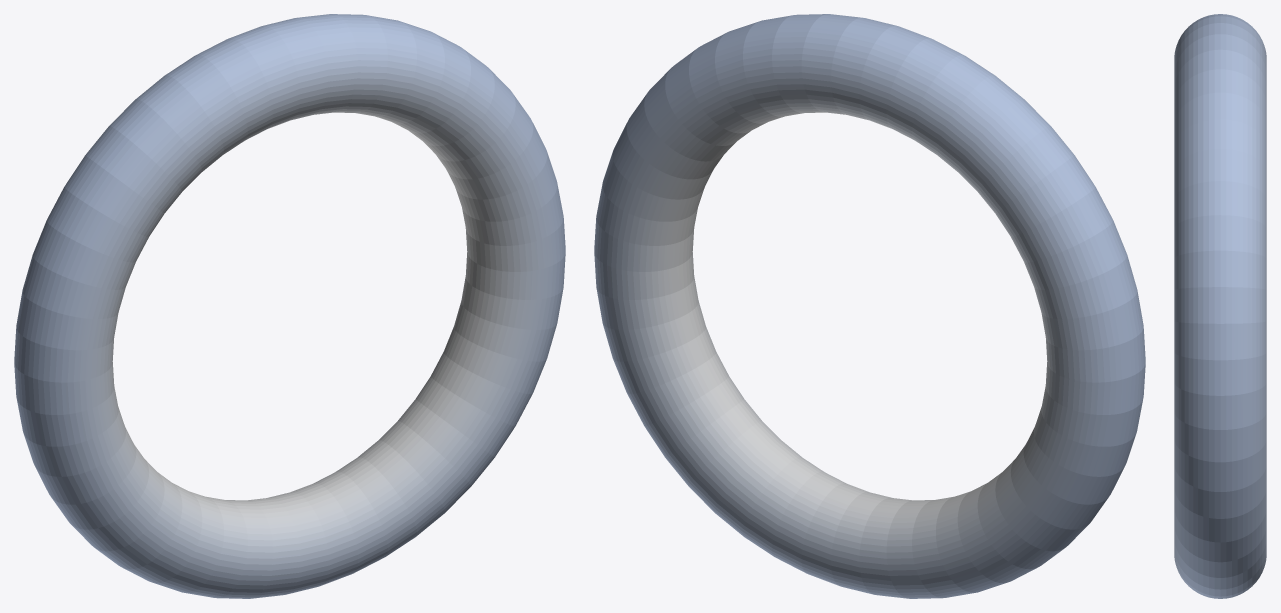
3 renders of one model, left to right at view 1: azimuth 30°, elevation 25°; view 2: azimuth 150°, elevation 25°; view 3: azimuth 270°, elevation 25°, orthographic. The views are drawn at different scales.
Visible parts, largest first — view 1: world; view 2: world; view 3: world.
Part boxes in pixels (box(x1,y1,x2,y2)): world: box(14, 14, 565, 598); world: box(594, 14, 1145, 598); world: box(1174, 14, 1266, 598).
Bounding box in the file's own units: 27.73 × 27.68 × 4.39.
